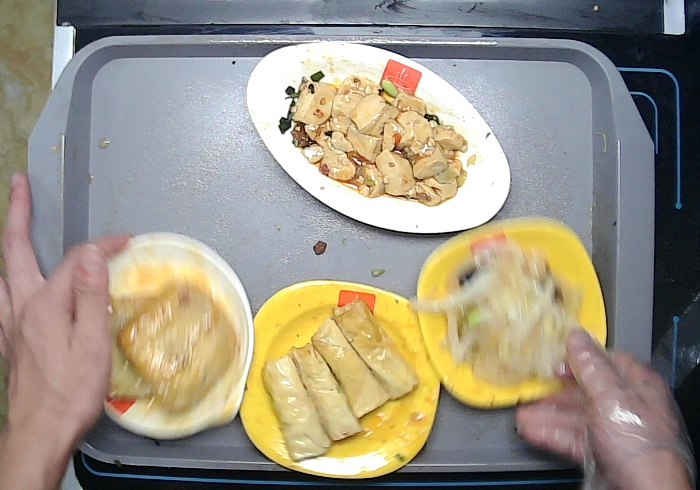SHKJ-Bao_Yu_Pan: (87, 228, 257, 442)
SHKJ-Huang_Se_Cai_Die: (413, 212, 611, 412)
SHKJ-Huang_Se_Si_Fang_Cai_Die: (234, 275, 445, 483)
SHKJ-Yu_Pan: (243, 39, 515, 240)
